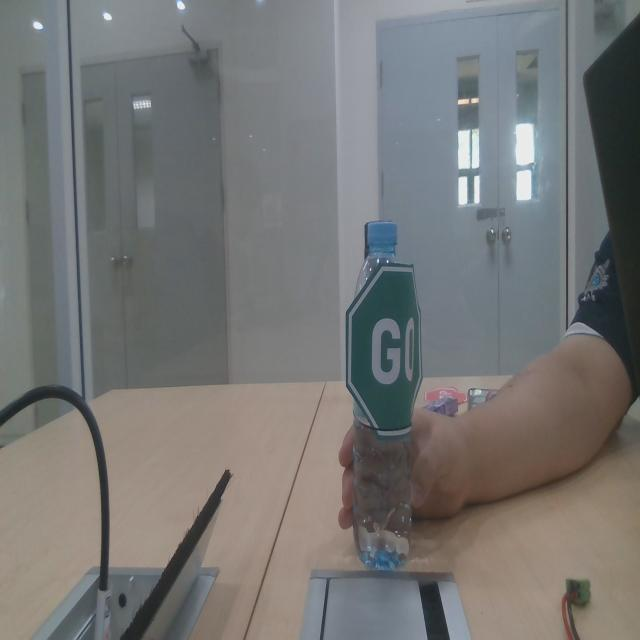Go: (335, 252, 432, 444)
